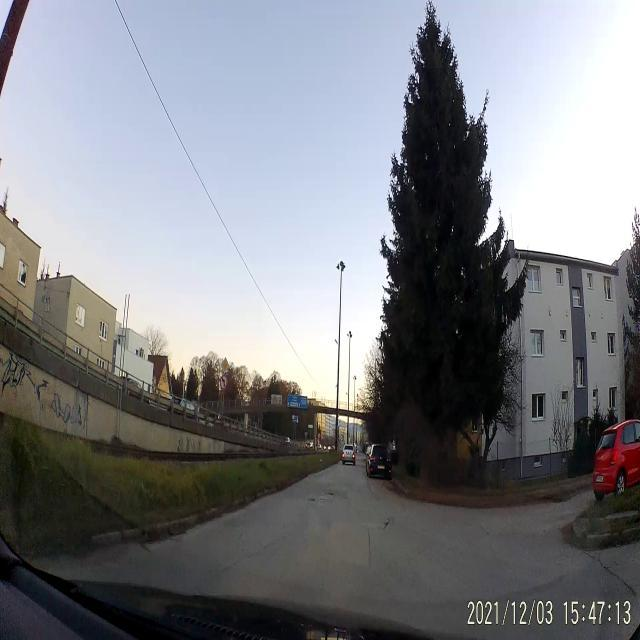Pothole: (324, 484, 337, 500), (382, 516, 392, 532), (306, 496, 316, 505)
